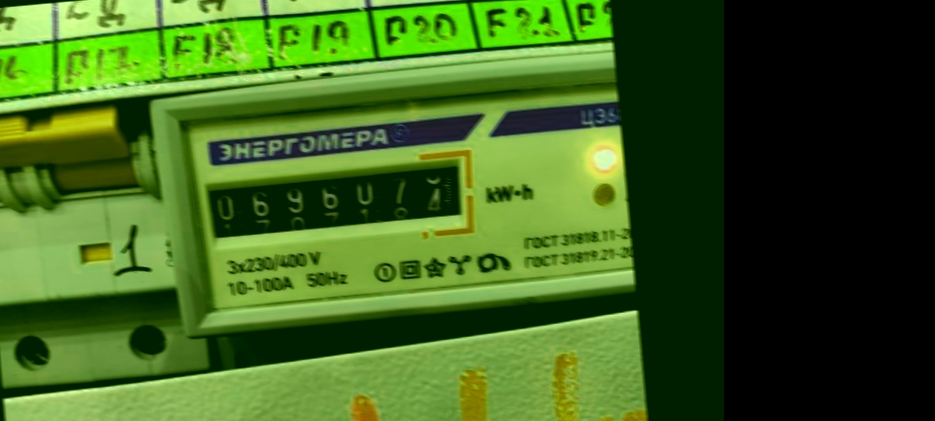0: (213, 187, 235, 219), (353, 172, 375, 203)
4: (421, 181, 443, 211)
6: (247, 183, 271, 215), (318, 177, 340, 206)
7: (388, 170, 408, 201)
9: (284, 181, 304, 212)
screen: (187, 139, 479, 254)
